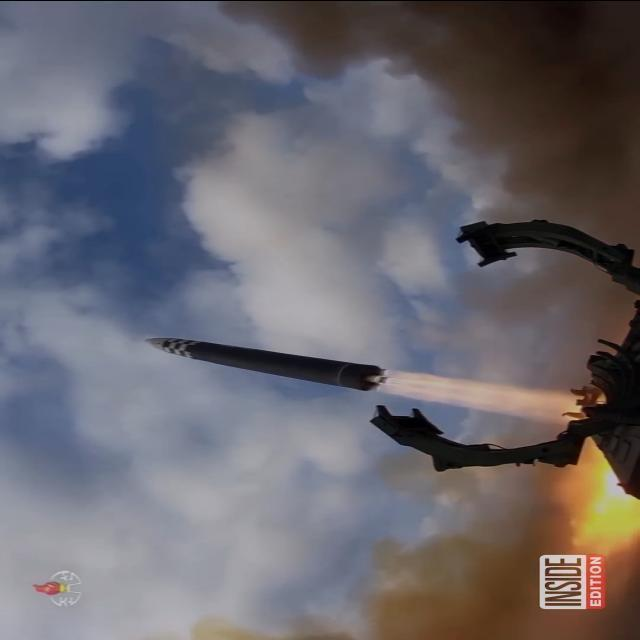missile: (142, 332, 382, 384)
